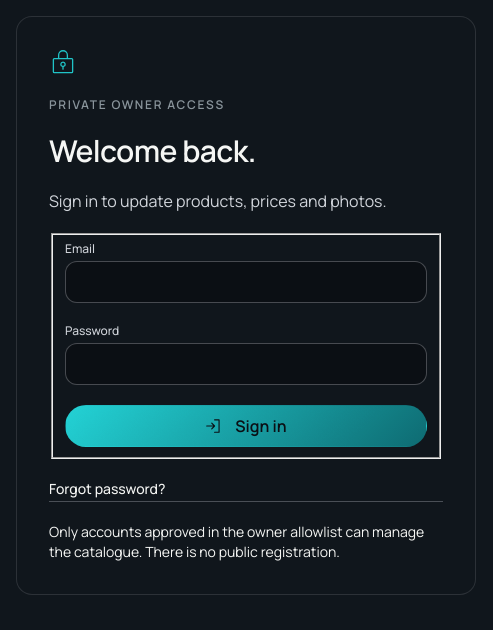
Scenario: owner login and password recovery › requests a reset email with generic account-discovery wording
Click the button "Forgot password?" at [107, 488], box [49,479,443,502]
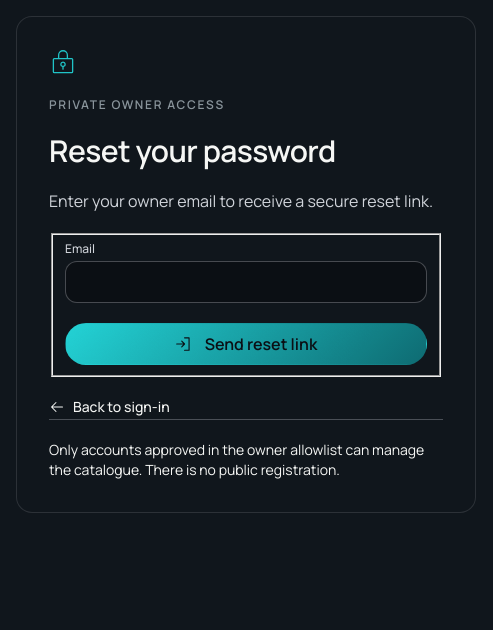
Type "owner@example.com" into the field labelled "Email" at [246, 282], box [65,261,427,303]
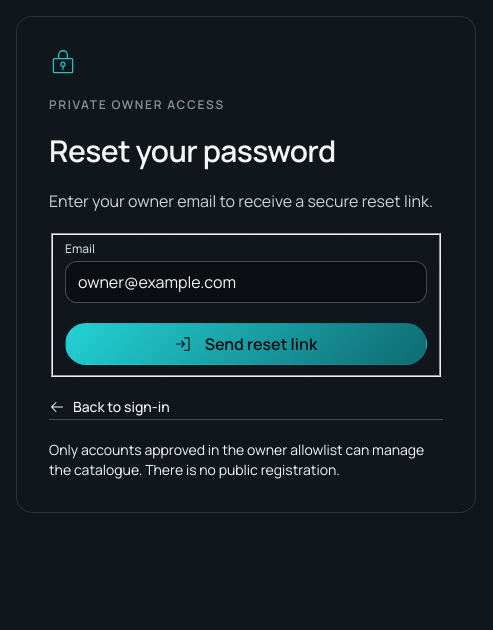
Click the button "Send reset link" at [246, 344], box [65,323,427,365]
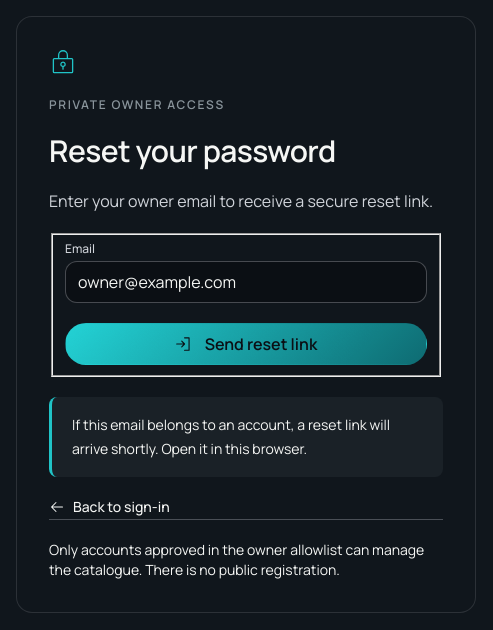
expect the message shows "If this email belongs to an account": met, box [72,415,390,458]
